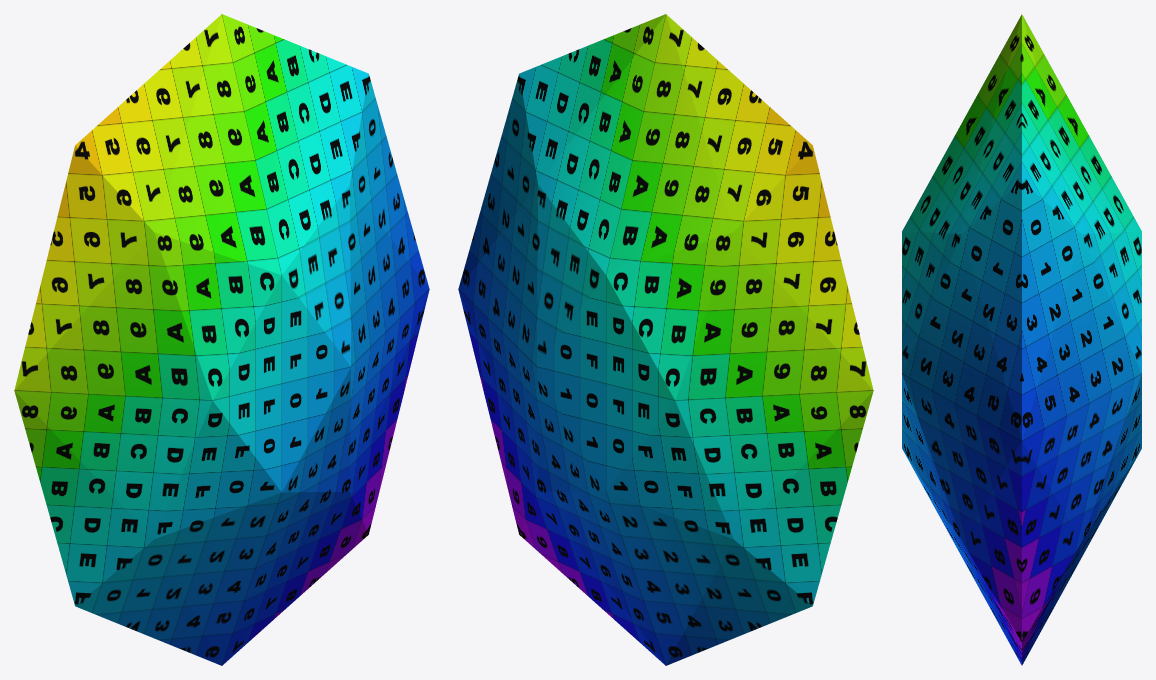
Rendered from Gemstone_01.fbx.
3 views of the same model, side by side, from view 1: azimuth 30°, elevation 25°; view 2: azimuth 150°, elevation 25°; view 3: azimuth 270°, elevation 25° (orthographic).
Parts seen in each view (by area): view 1: Gemstone_01; view 2: Gemstone_01; view 3: Gemstone_01.
Boxes of the visible parts, x1,y1,x2,y2 form: Gemstone_01: [14, 14, 429, 665]; Gemstone_01: [458, 14, 873, 665]; Gemstone_01: [902, 14, 1141, 665].
Bounding box in the file's own units: 200 × 300 × 100.
